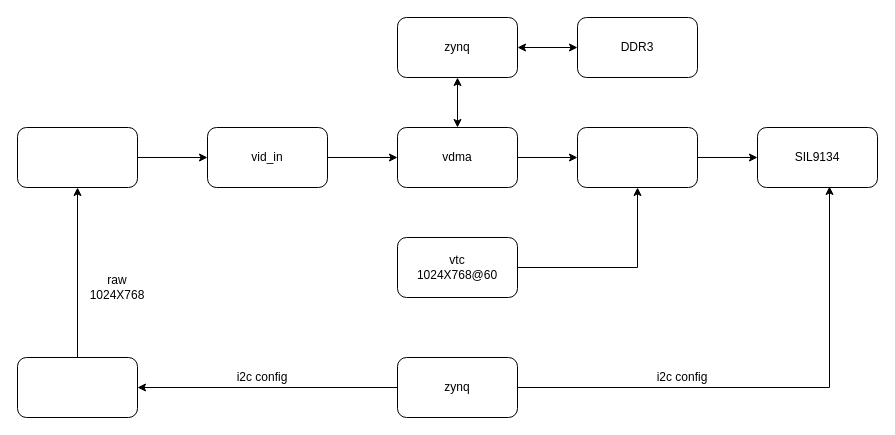
This 895x435 diagram has some shape labels left out. Each missing label, with the centre of its shape:
"ov5640" goes at point 77,387.
"ov5640_if" goes at point 77,157.
"vid_out" goes at point 637,157.
